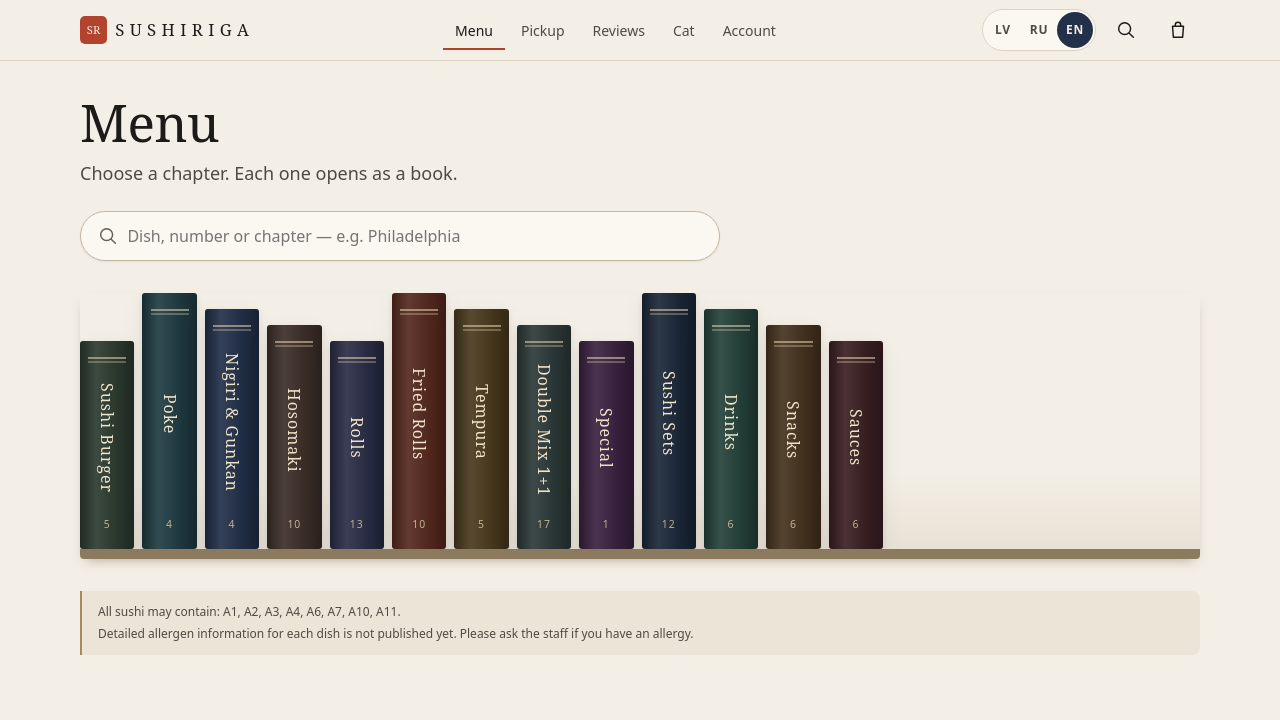
Test: real menu: search, dish in the book, cart › shows a clear message when nothing is found
Type "pizza" into the search field at point(400, 236), box x1=81 y1=212 x2=719 y2=260
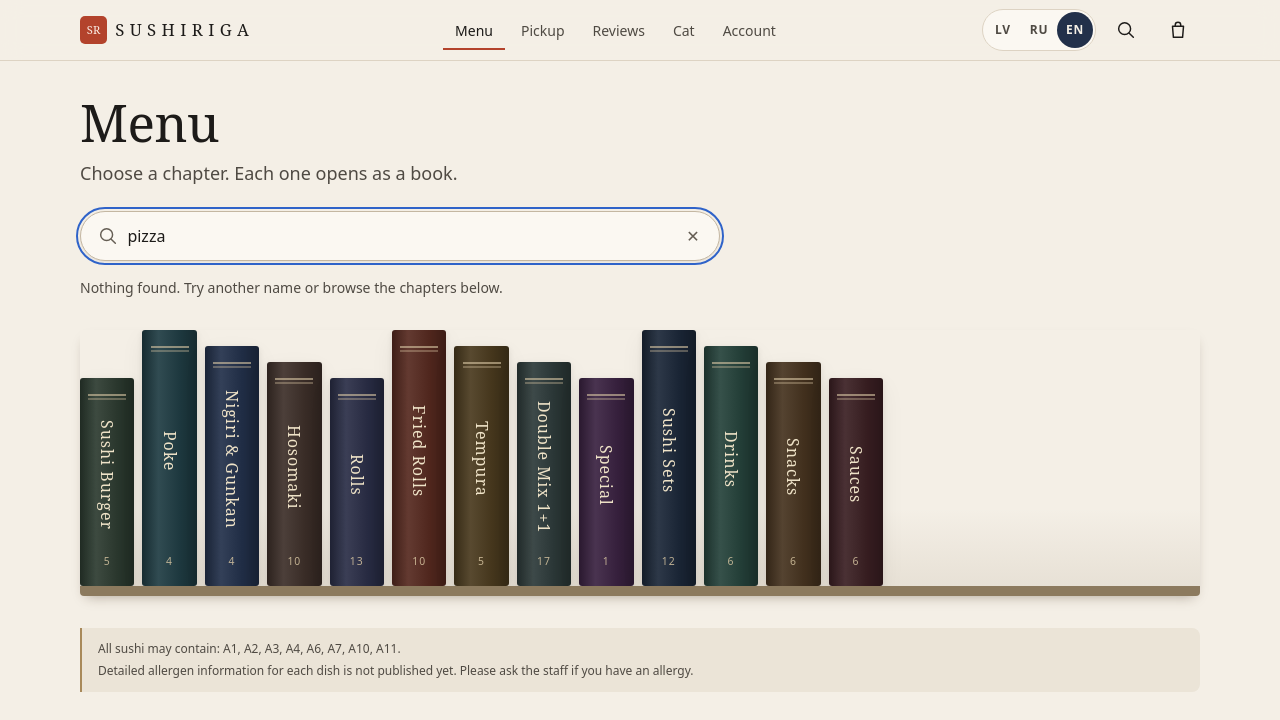
Result: the text "Nothing found. Try another name or browse the chapters below." is shown at x1=80 y1=278 x2=503 y2=297
Click the button named "Clear search" at point(693, 236), box x1=671 y1=214 x2=715 y2=258
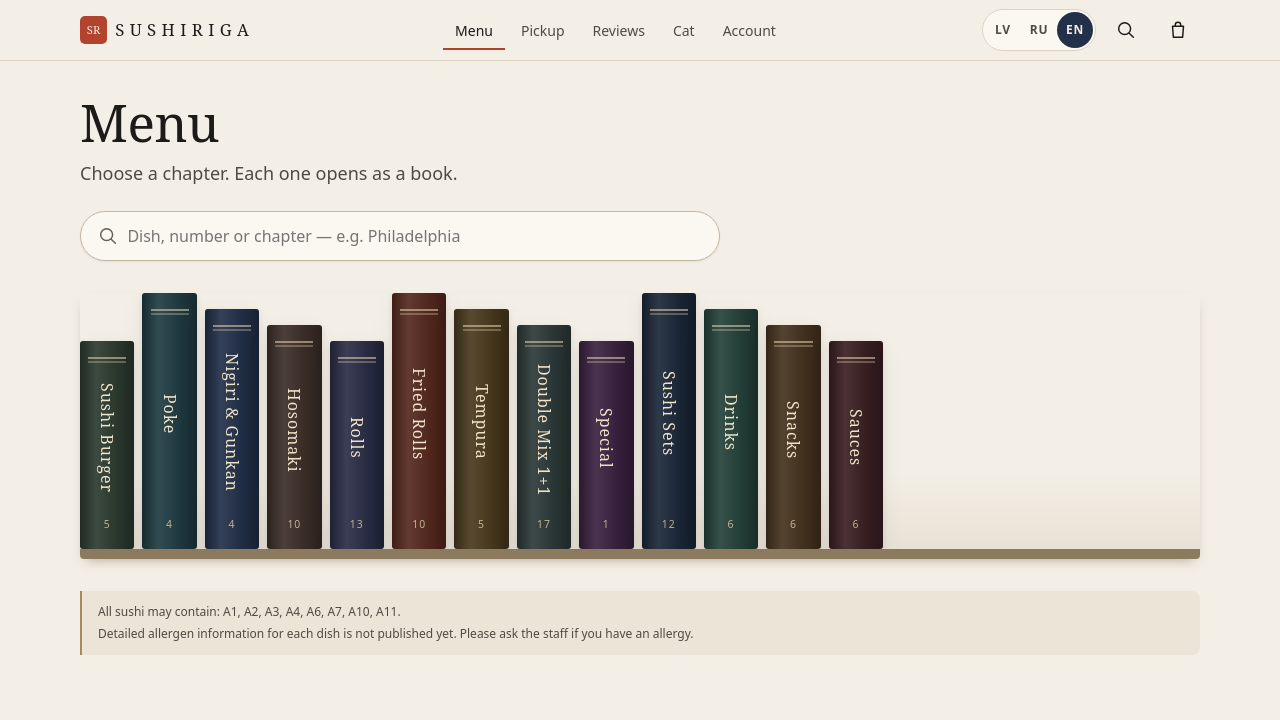
Result: the search field is empty at x1=81 y1=212 x2=719 y2=260
